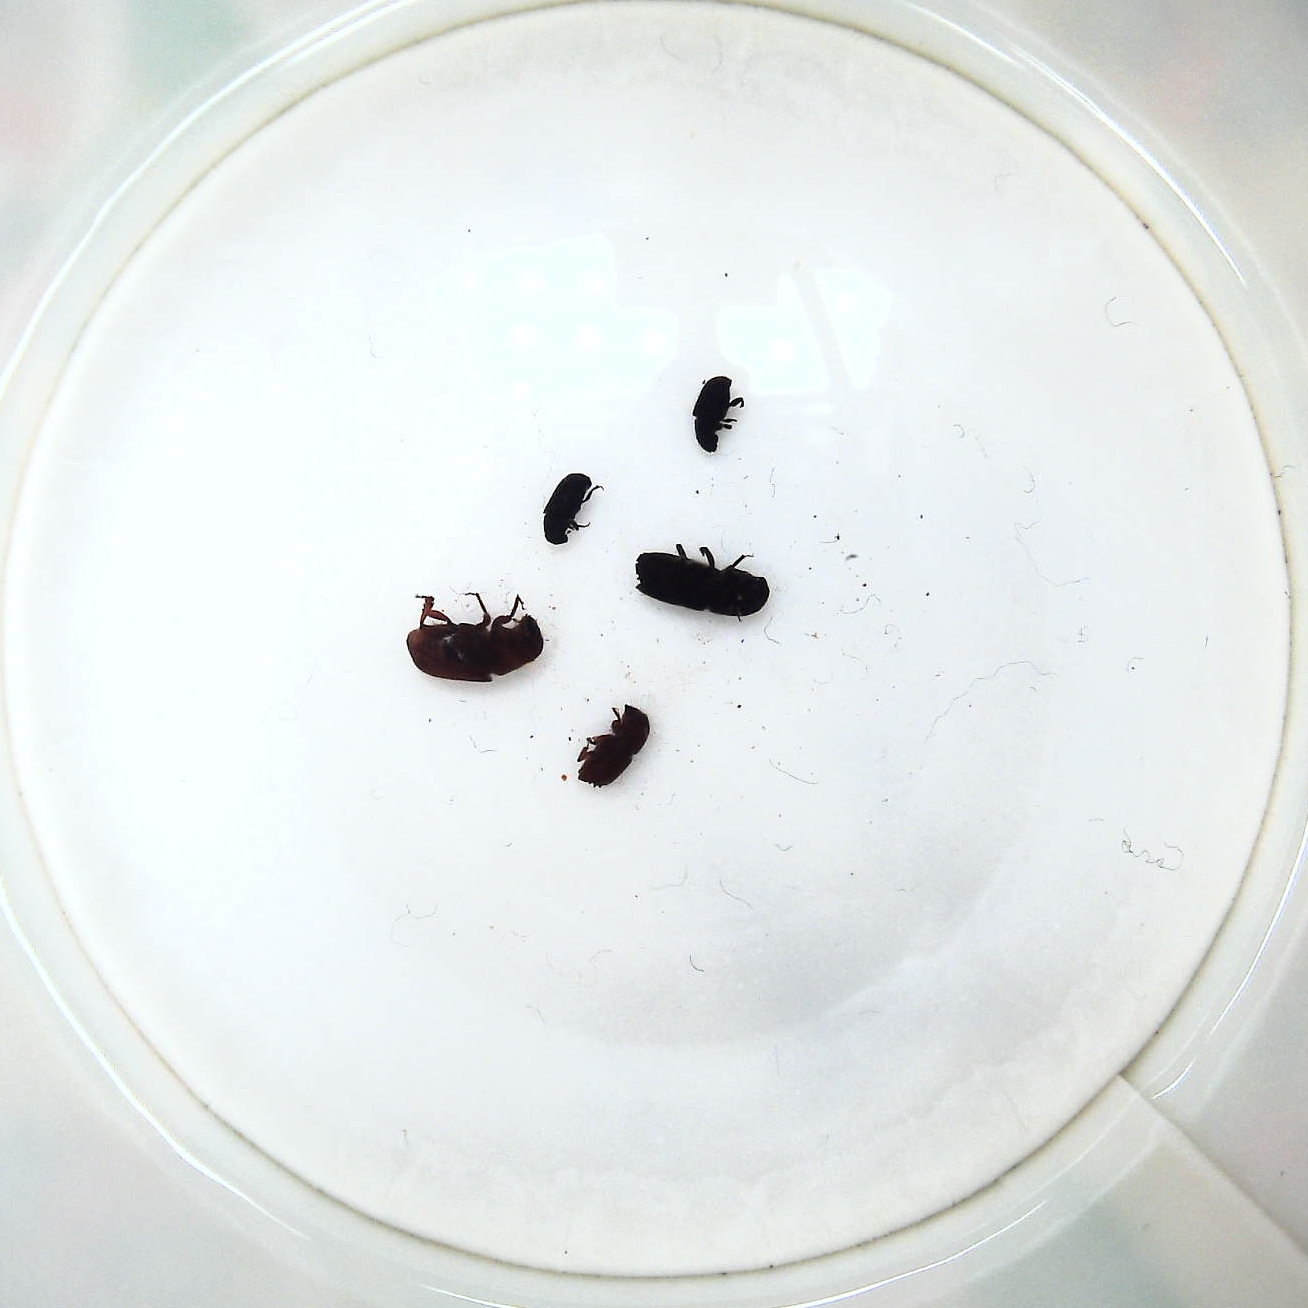Boerner: (624, 541, 775, 622)
Leconte: (407, 585, 549, 694)
armandi: (538, 464, 597, 555)
coleoptera: (688, 373, 746, 456)
linnaeus: (573, 698, 653, 788)
